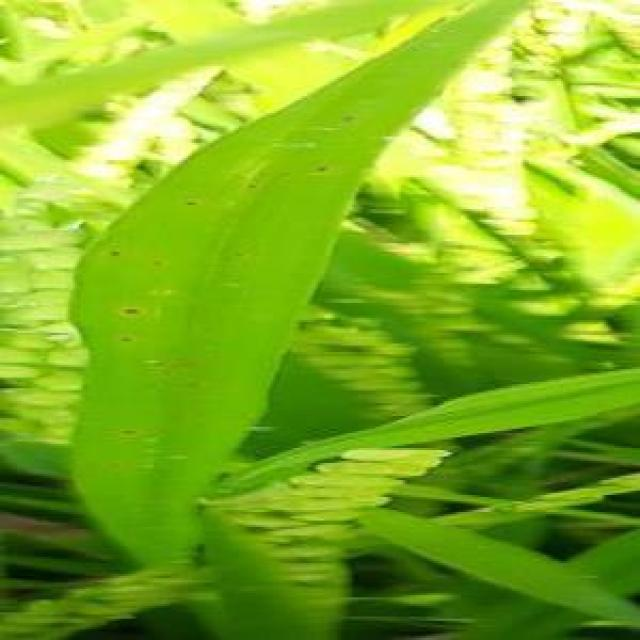Brown_Spot: (119, 288, 149, 326), (314, 159, 354, 185), (105, 238, 131, 270), (111, 332, 137, 352)
